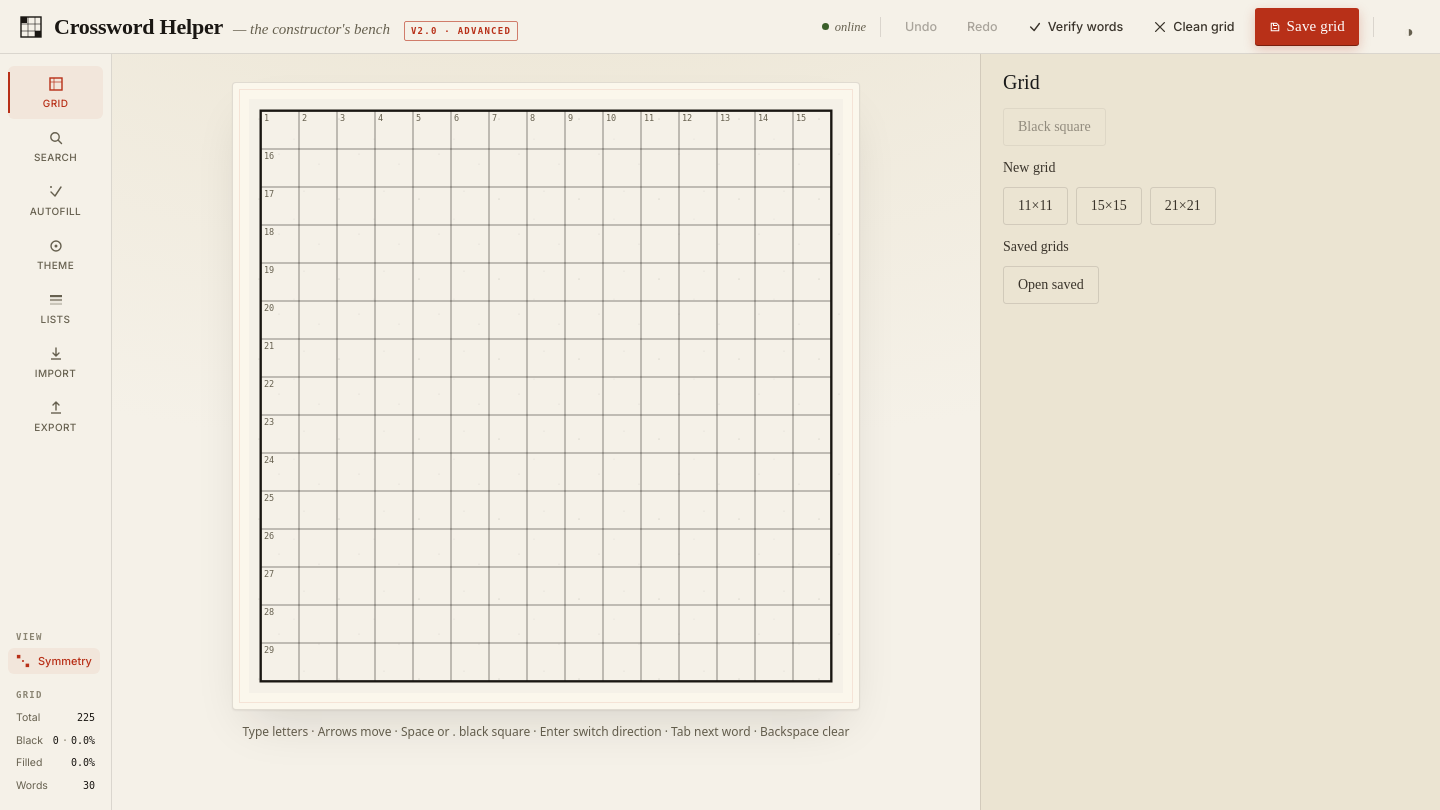
Test case: App D1 gate: handlers called directly while a run is live › handleThemeWordApplied writes nothing and toasts nothing while live
Expected: the button "Verify words" is enabled, [1018, 13, 1133, 40]
Step 1. Click the button "Theme" → (56, 254), box [8, 228, 103, 281]
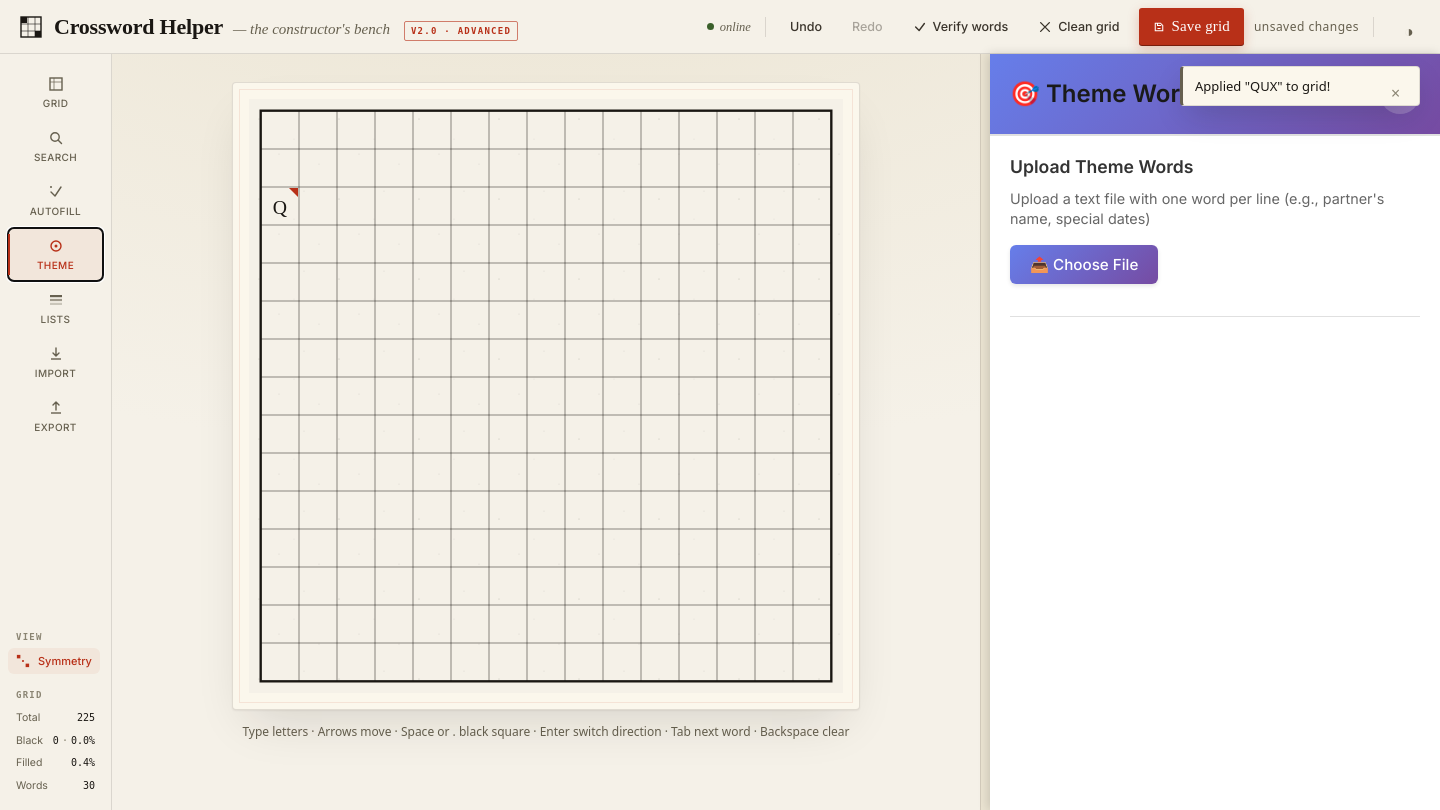
Expected: the text "Applied \"QUX\" to grid!" is shown, [1195, 77, 1330, 95]
Step 2. Click the button "Autofill" → (56, 200), box [8, 174, 103, 227]
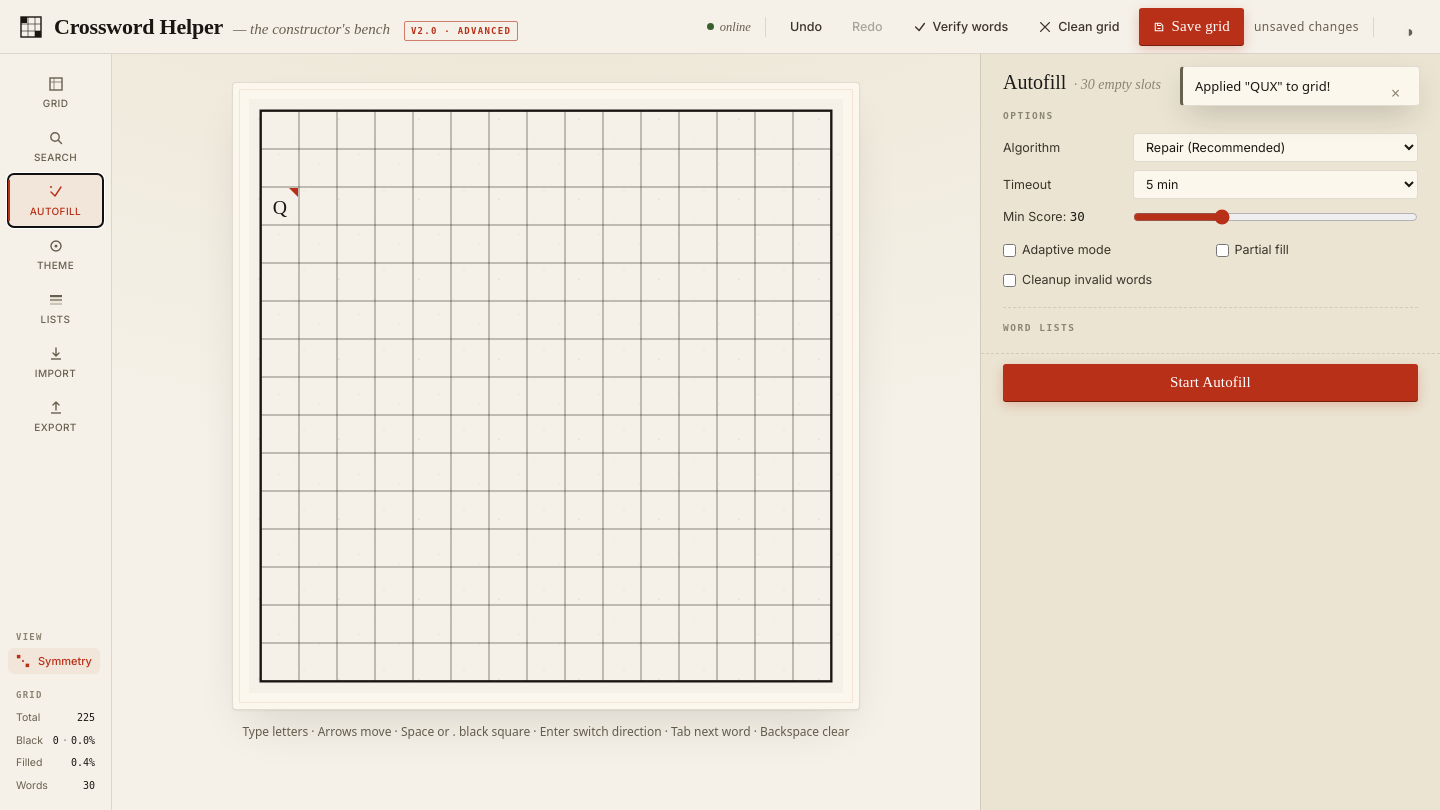
Step 3. Click the button "Start Autofill" → (1210, 383), box [1003, 364, 1418, 401]
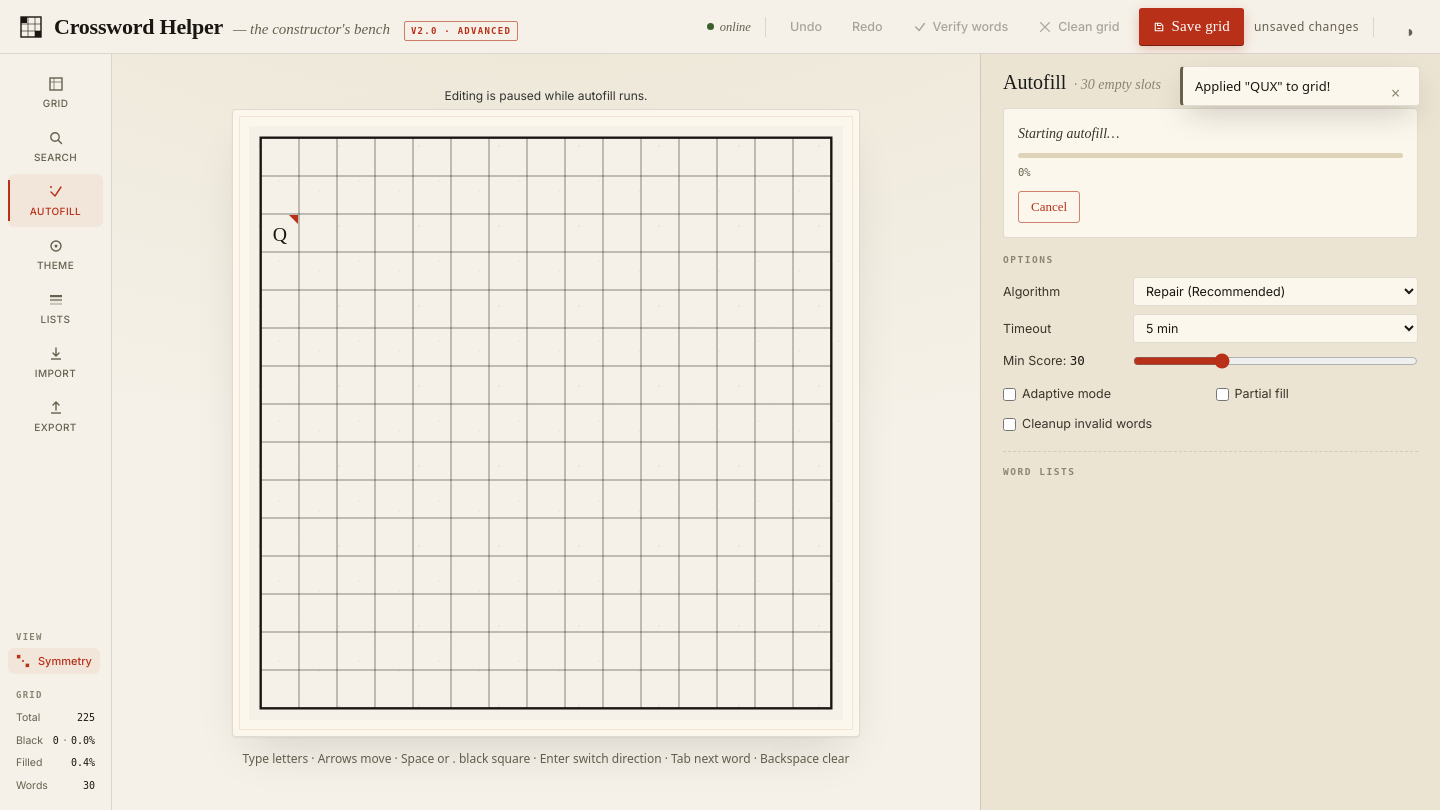
Expected: the text "Editing is paused while autofill runs." is shown, [444, 88, 648, 103]
